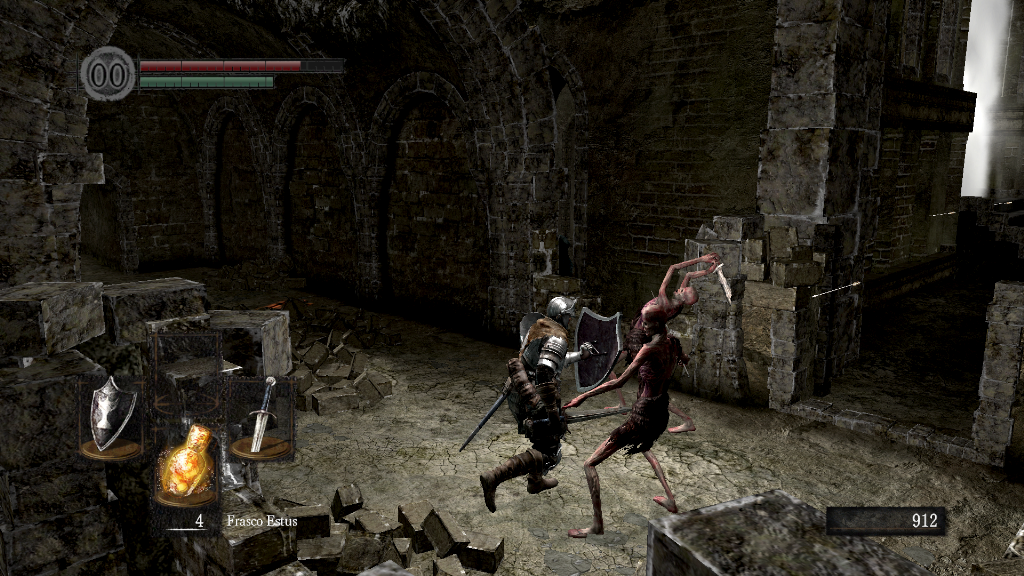health: (138, 58, 343, 71)
hollow: (565, 299, 682, 539), (630, 252, 733, 433)
humanity: (80, 45, 136, 102)
player: (459, 297, 624, 514)
souls: (825, 506, 945, 536)
stamina: (138, 74, 274, 88)
